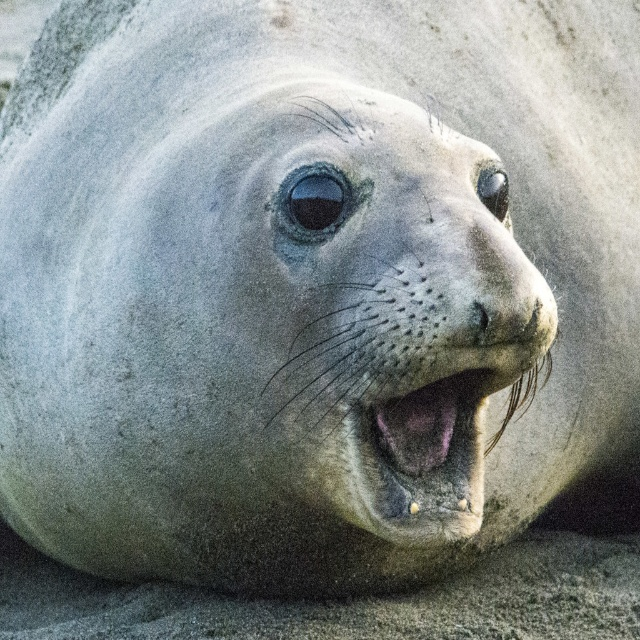Sea lion: (0, 0, 640, 602)
